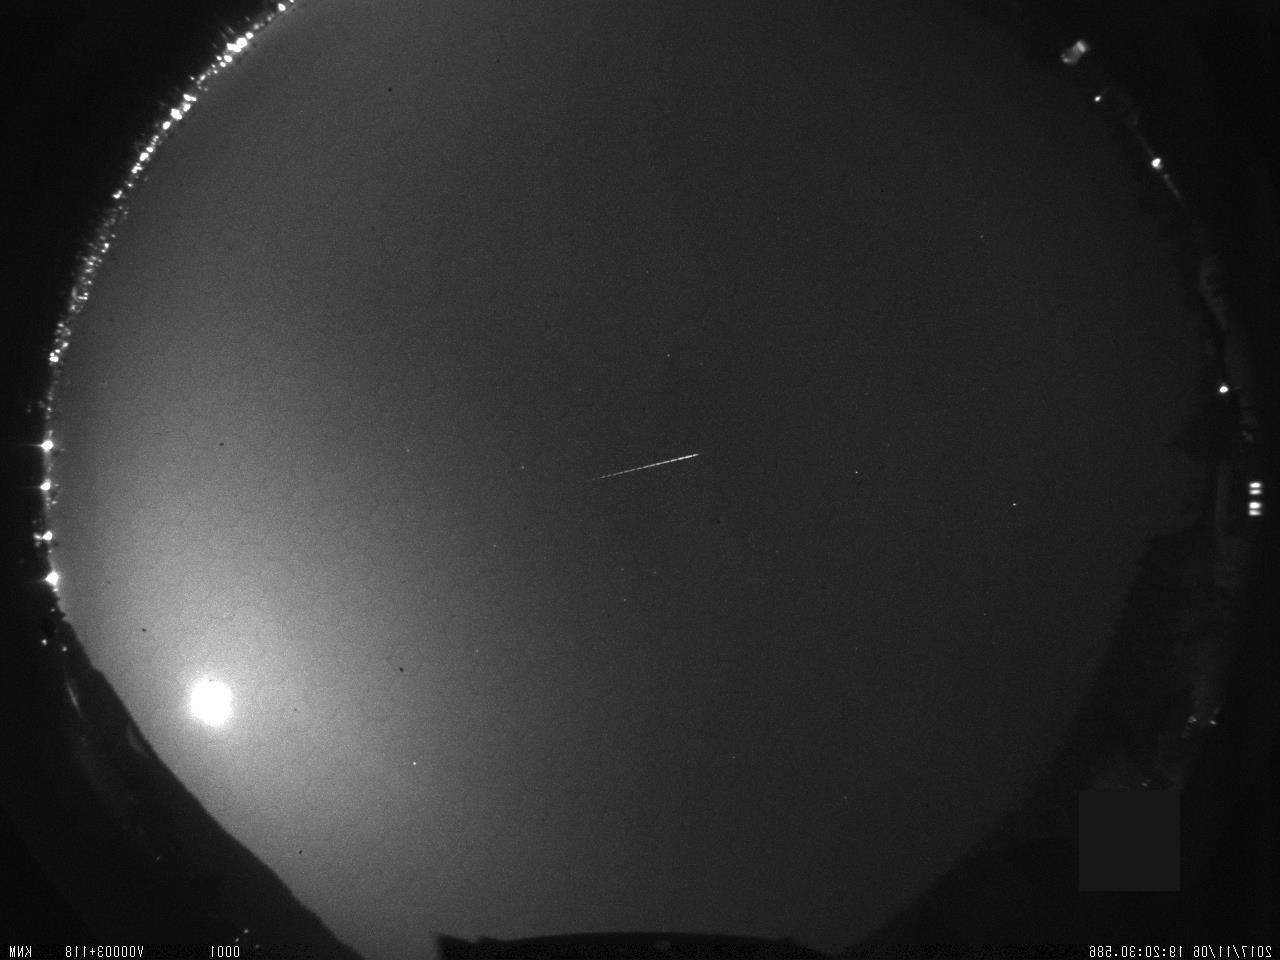meteor: (540, 412, 737, 516)
